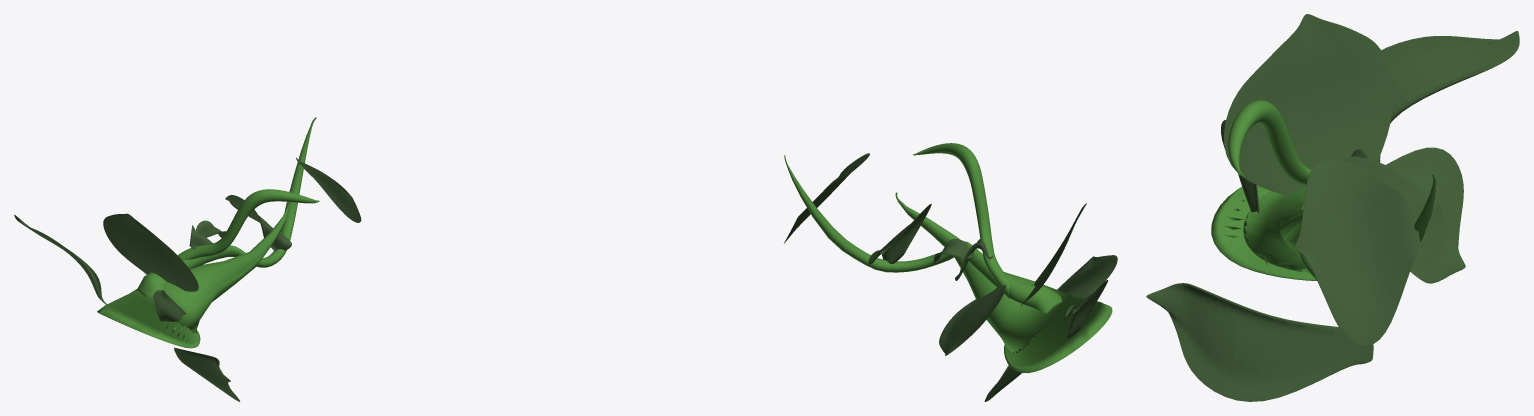
File: BeansalkBridge#01.fbx
3 renders of one model, left to right at view 1: azimuth 30°, elevation 25°; view 2: azimuth 150°, elevation 25°; view 3: azimuth 270°, elevation 25°, orthographic. The views are drawn at different scales.
Visible parts, largest first — view 1: Stalk12.086, Stalk12.086|Plane.017|Dupli|2, Stalk12.086|Plane.017|Dupli|6, Stalk12.086|Plane.017|Dupli|7, Stalk12.086|Plane.017|Dupli|1, Stalk12.086|Plane.017|Dupli|4, Stalk12.086|Plane.017|Dupli|; view 2: Stalk12.086, Stalk12.086|Plane.017|Dupli|5, Stalk12.086|Plane.017|Dupli|1, Stalk12.086|Plane.017|Dupli|4, Stalk12.086|Plane.017|Dupli|, Stalk12.086|Plane.017|Dupli|7, Stalk12.086|Plane.017|Dupli|2; view 3: Stalk12.086|Plane.017|Dupli|2, Stalk12.086|Plane.017|Dupli|7, Stalk12.086|Plane.017|Dupli|6, Stalk12.086, Stalk12.086|Plane.017|Dupli|, Stalk12.086|Plane.017|Dupli|5, Stalk12.086|Plane.017|Dupli|4, Stalk12.086|Plane.017|Dupli|1.
Part boxes in pixels (x1,y1,x2,y2): Stalk12.086: (97, 117, 319, 348); Stalk12.086|Plane.017|Dupli|2: (103, 213, 198, 291); Stalk12.086|Plane.017|Dupli|6: (174, 347, 240, 401); Stalk12.086|Plane.017|Dupli|7: (296, 157, 361, 222); Stalk12.086|Plane.017|Dupli|1: (153, 290, 197, 333); Stalk12.086|Plane.017|Dupli|4: (225, 195, 291, 252); Stalk12.086|Plane.017|Dupli|: (14, 214, 107, 305); Stalk12.086: (784, 143, 1112, 373); Stalk12.086|Plane.017|Dupli|5: (939, 284, 1006, 355); Stalk12.086|Plane.017|Dupli|1: (1057, 255, 1117, 298); Stalk12.086|Plane.017|Dupli|4: (868, 204, 931, 264); Stalk12.086|Plane.017|Dupli|: (1064, 280, 1108, 339); Stalk12.086|Plane.017|Dupli|7: (784, 153, 869, 243); Stalk12.086|Plane.017|Dupli|2: (1020, 203, 1086, 306); Stalk12.086|Plane.017|Dupli|2: (1224, 14, 1393, 195); Stalk12.086|Plane.017|Dupli|7: (1295, 159, 1419, 345); Stalk12.086|Plane.017|Dupli|6: (1146, 283, 1373, 401); Stalk12.086: (1211, 100, 1436, 280); Stalk12.086|Plane.017|Dupli|: (1377, 31, 1519, 162); Stalk12.086|Plane.017|Dupli|5: (1386, 147, 1465, 283); Stalk12.086|Plane.017|Dupli|4: (1336, 157, 1442, 248); Stalk12.086|Plane.017|Dupli|1: (1221, 120, 1267, 265).
Size of the model in its own units: 94.76 by 50.67 by 38.55.
